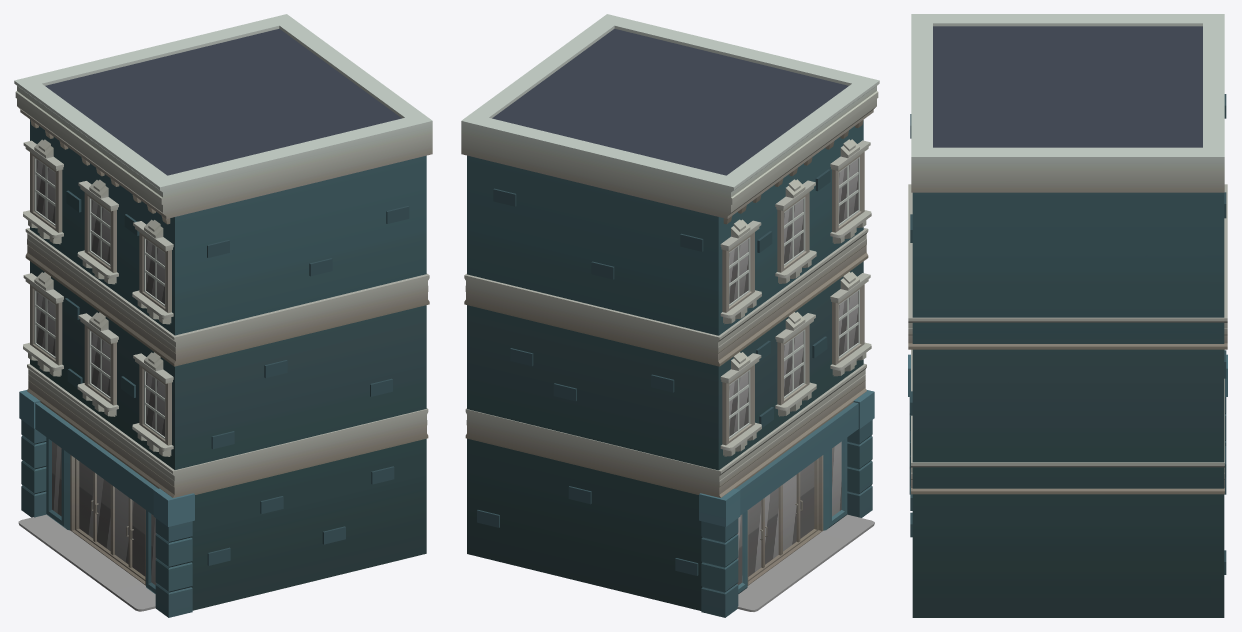
The model's file is Building_21_3_K.fbx.
The picture shows the model from 3 angles, left to right: view 1: azimuth 30°, elevation 25°; view 2: azimuth 150°, elevation 25°; view 3: azimuth 270°, elevation 25°; orthographic projection. The views are drawn at different scales.
Visible parts, largest first — view 1: Building_21_3_K; view 2: Building_21_3_K; view 3: Building_21_3_K.
Boxes of the visible parts, x1,y1,x2,y2 form: Building_21_3_K: (14,14,432,617); Building_21_3_K: (461,14,879,617); Building_21_3_K: (908,14,1227,617).
Bounding box in the file's own units: 779 × 1141 × 713.
